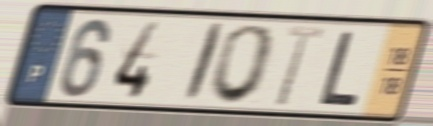4: (109, 18, 159, 101)
6: (57, 15, 112, 100)
I: (180, 20, 228, 105)
L: (315, 28, 362, 109)
O: (206, 22, 278, 107)
T: (272, 23, 328, 110)
